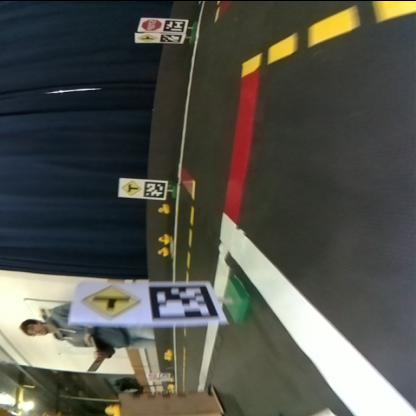Duckie: (105, 403, 119, 413), (156, 245, 168, 255), (158, 202, 170, 212), (159, 232, 167, 242), (164, 347, 172, 353), (164, 353, 171, 359)
Intersection sign: (80, 282, 142, 320), (120, 178, 142, 195), (137, 32, 157, 40)
QR code: (146, 283, 218, 320), (142, 180, 166, 197), (163, 18, 185, 30), (160, 34, 182, 42)
Stop sign: (140, 18, 162, 30)
